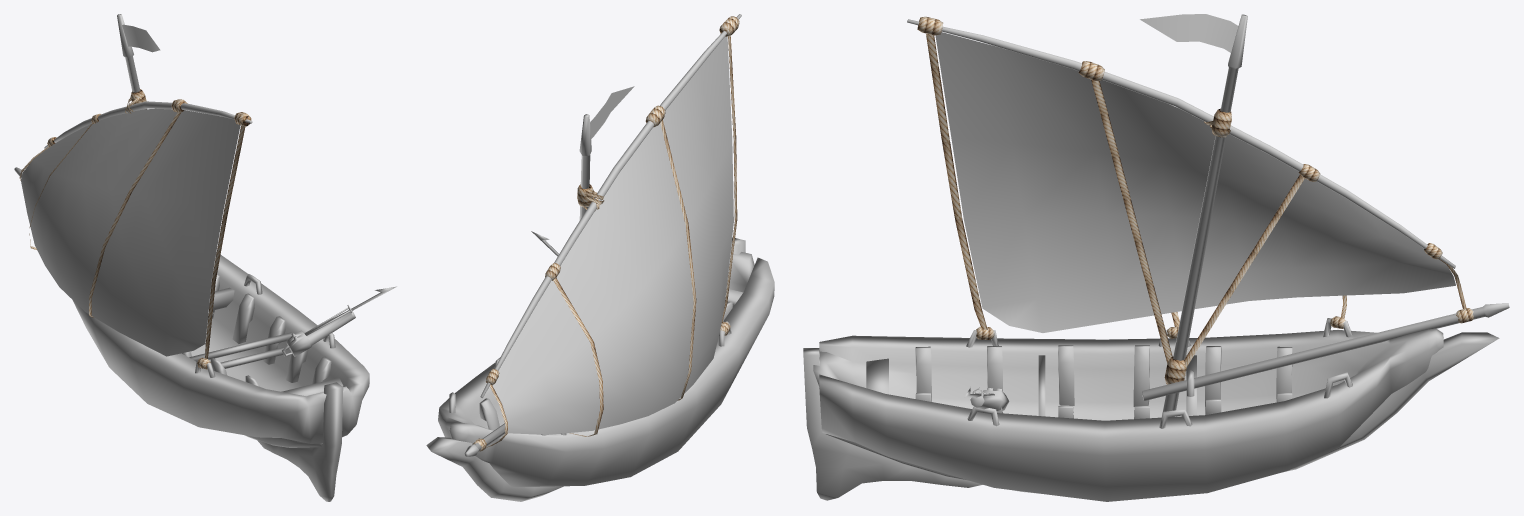
Rendered from NPC_Fisherman.fbx.
3 renders of one model, left to right at view 1: azimuth 30°, elevation 25°; view 2: azimuth 150°, elevation 25°; view 3: azimuth 270°, elevation 25°, orthographic. The views are drawn at different scales.
Parts seen in each view (by area): view 1: Sail, Boat, Ropes, RopePiles, Flag; view 2: Sail, Boat, Ropes, RopePiles, Flag; view 3: Boat, Sail, Ropes, RopePiles, Flag.
Boxes of the visible parts, bbox=[...] form: Sail: bbox=[21, 108, 240, 356]; Boat: bbox=[14, 14, 396, 501]; Ropes: bbox=[19, 95, 245, 358]; RopePiles: bbox=[47, 89, 251, 369]; Flag: bbox=[122, 24, 160, 52]; Sail: bbox=[492, 36, 733, 434]; Boat: bbox=[426, 14, 774, 501]; Ropes: bbox=[484, 35, 737, 448]; RopePiles: bbox=[472, 16, 739, 451]; Flag: bbox=[590, 86, 634, 139]; Boat: bbox=[803, 14, 1509, 501]; Sail: bbox=[935, 32, 1455, 332]; Ropes: bbox=[926, 34, 1466, 369]; RopePiles: bbox=[917, 16, 1473, 384]; Flag: bbox=[1140, 14, 1238, 52].
Bounding box in the file's own units: 2210 × 3478 × 4805.
